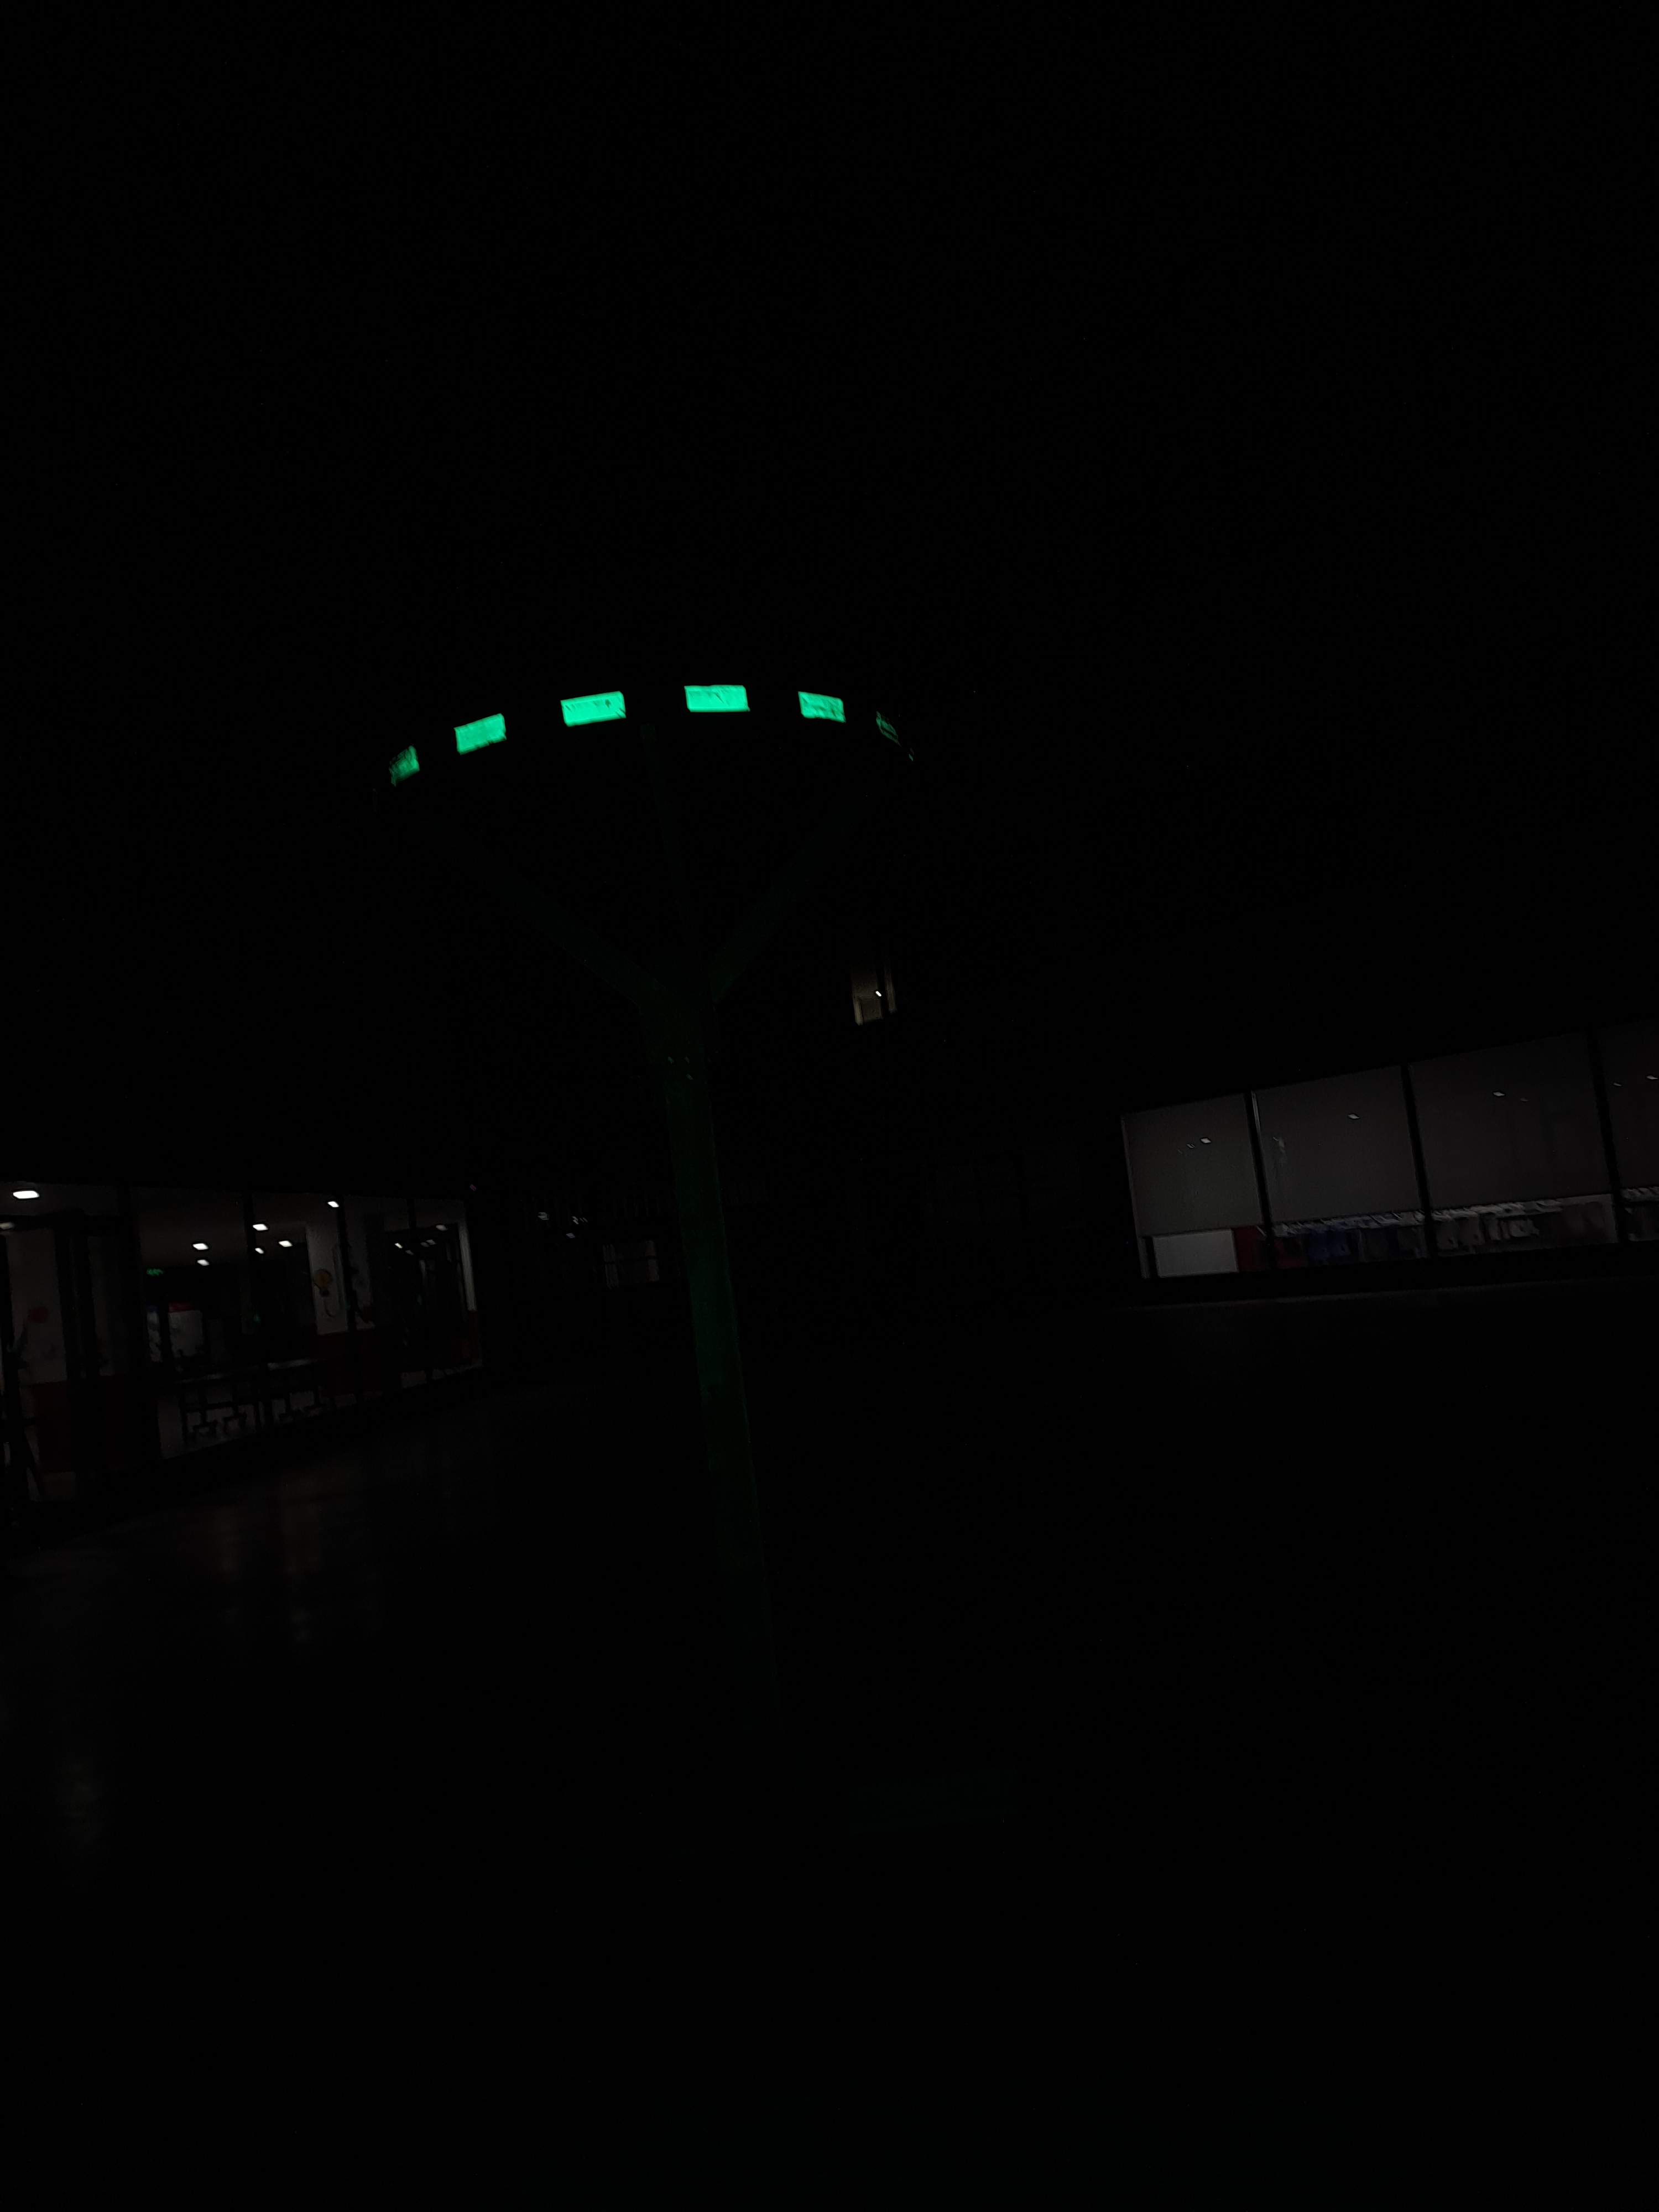hoop: (385, 679, 849, 796)
